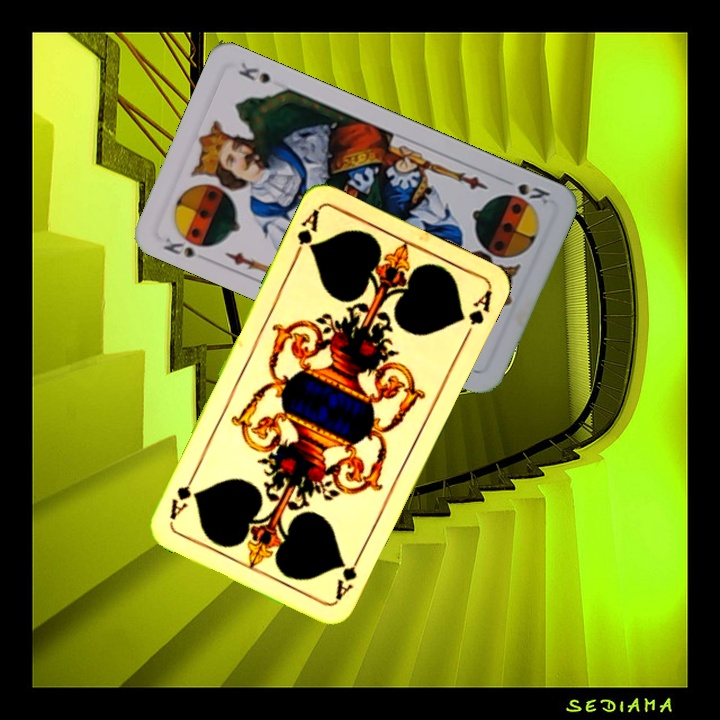GA: (331, 548, 365, 604), (290, 205, 322, 262)
SK: (497, 174, 554, 207), (159, 233, 213, 262)
